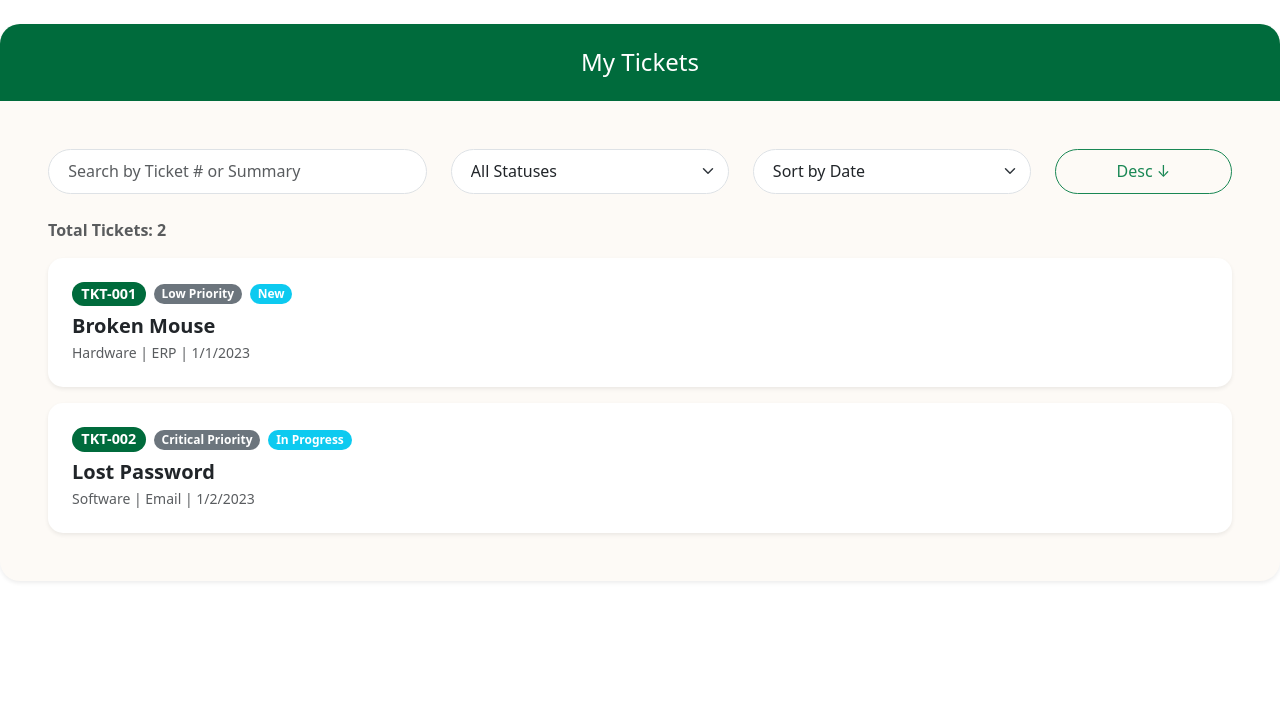
Test: MyTickets › filters by status and sorts
Check: the heading "Broken Mouse" is shown, box 72,312 -> 215,340
Select "Closed" in the 1st dropdown showing "All Statuses" at x=590, y=171, box 451,149 -> 729,194
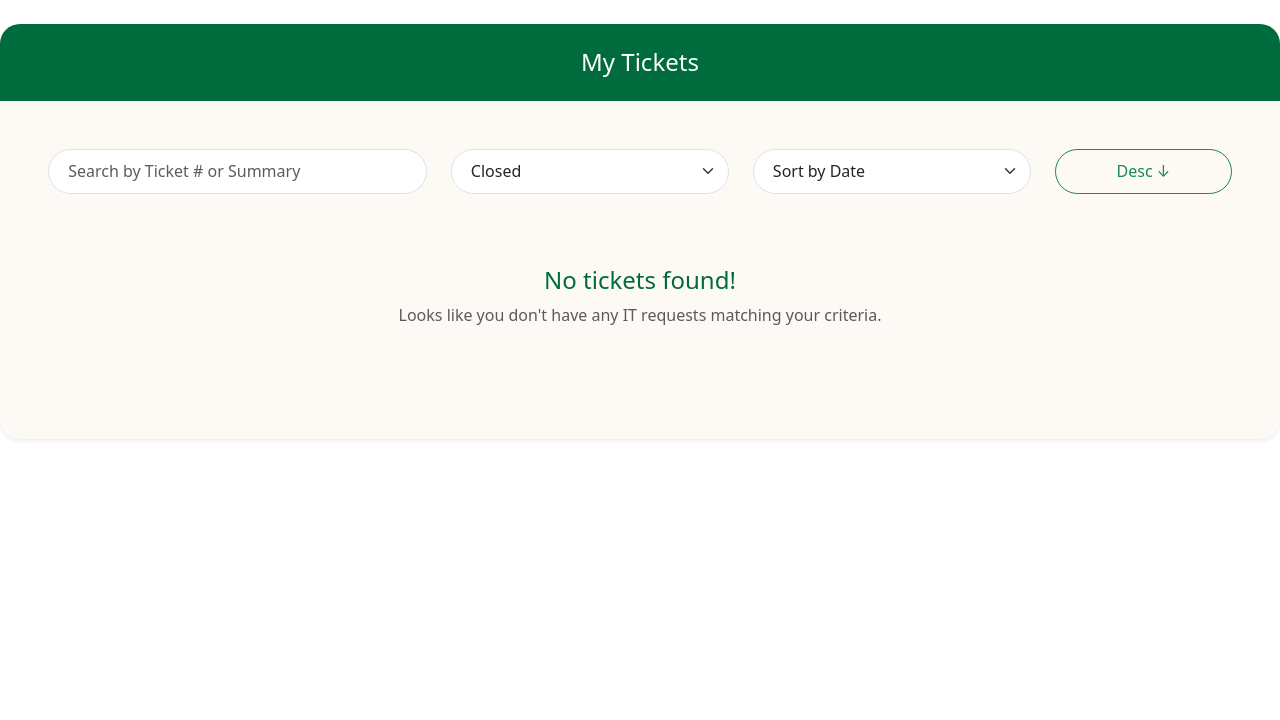
Check: the heading "No tickets found!" is shown, box 544,263 -> 736,296
Test sorting toggle
Click the button "Desc ↓" at x=1143, y=171, box 1055,149 -> 1232,194
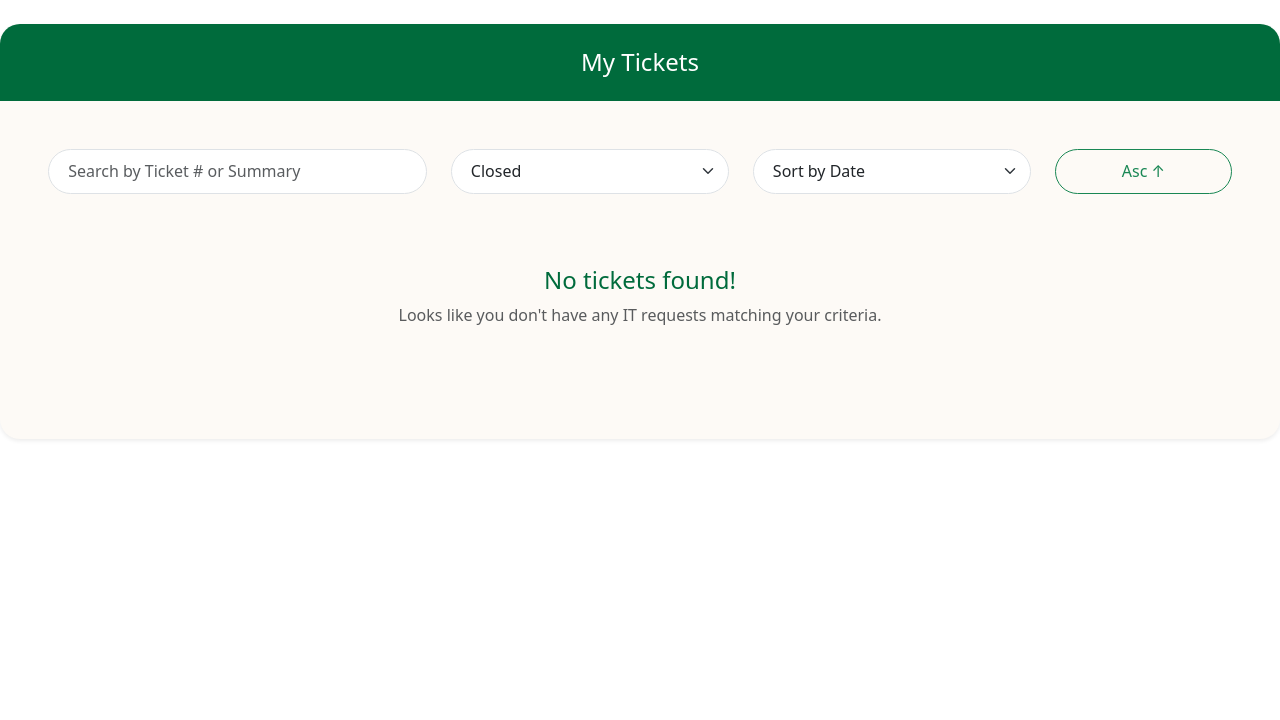
Check: the button "Asc ↑" is shown, box 1055,149 -> 1232,194
